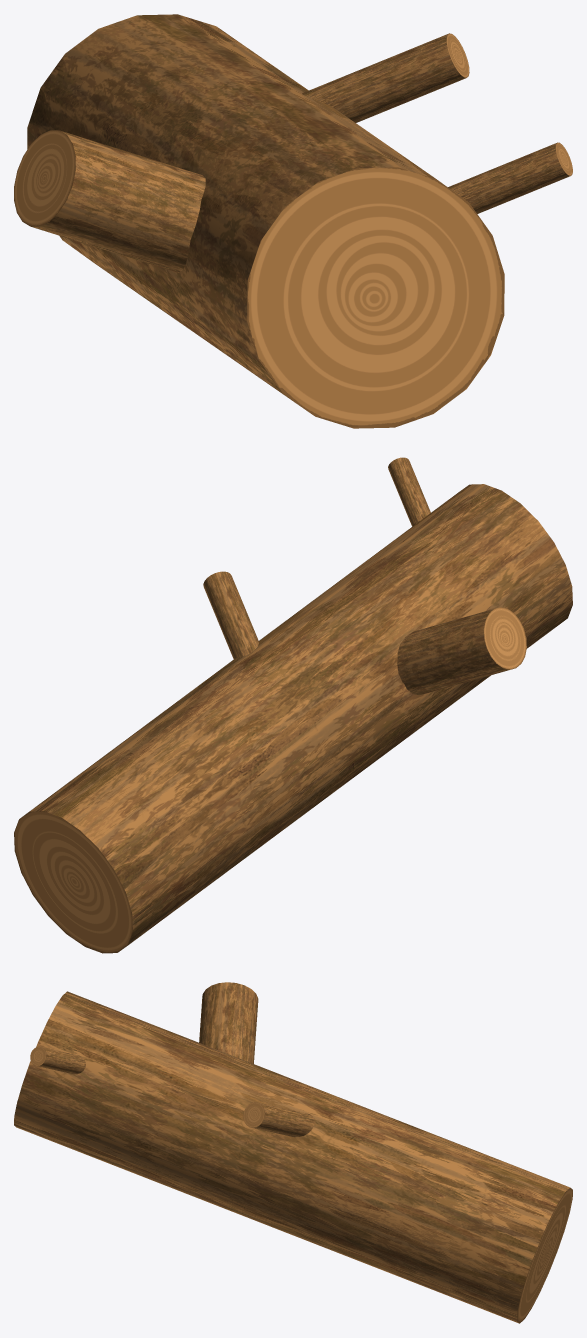
Rendered from start_tree2.1.fbx.
3 renders of one model, top to bottom at view 1: azimuth 30°, elevation 25°; view 2: azimuth 150°, elevation 25°; view 3: azimuth 270°, elevation 25°, orthographic. The views are drawn at different scales.
Visible parts, largest first — view 1: tree, branch_3, branch_1, branch_2; view 2: tree, branch_3, branch_1, branch_2; view 3: tree, branch_3, branch_1, branch_2.
Boxes of the visible parts, x1,y1,x2,y2 form: tree: (27,14,504,428); branch_3: (14,130,205,272); branch_1: (302,33,469,122); branch_2: (448,142,572,213); tree: (14,484,572,953); branch_3: (397,607,526,695); branch_1: (203,571,258,659); branch_2: (388,457,430,526); tree: (14,991,572,1323); branch_3: (199,982,258,1063); branch_1: (243,1102,315,1137); branch_2: (30,1046,85,1074).
Bounding box in the file's own units: 10395 × 8893 × 17357.
Materials: 1 (1 with a texture image).
